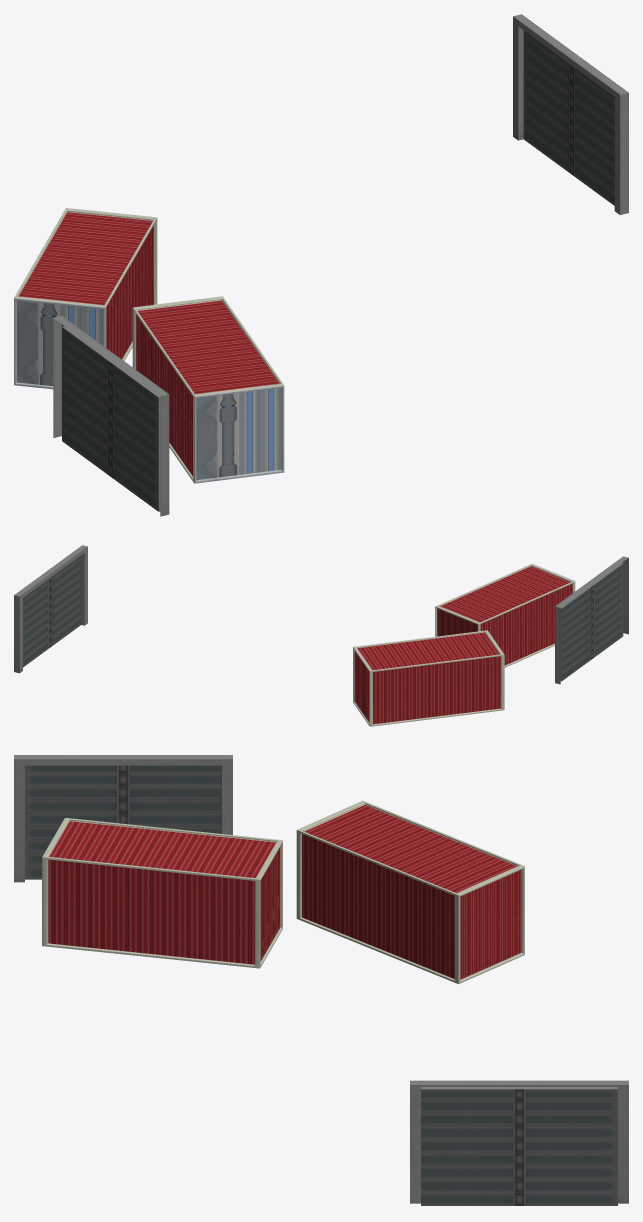
File: Warehouse Shipping.fbx
3 renders of one model, top to bottom at view 1: azimuth 30°, elevation 25°; view 2: azimuth 150°, elevation 25°; view 3: azimuth 270°, elevation 25°, orthographic. The views are drawn at different scales.
Parts seen in each view (by area): view 1: Shipping.002, Shipping.001, Garage Door.002, Garage Door; view 2: Shipping.001, Shipping.002, Garage Door.002, Garage Door; view 3: Shipping.002, Shipping.001, Garage Door, Garage Door.002.
Boxes of the visible parts, x1,y1,x2,y2 form: Shipping.002: (132,296,284,483); Shipping.001: (14,208,157,389); Garage Door.002: (53,316,169,516); Garage Door: (513,14,628,214); Shipping.001: (353,630,504,726); Shipping.002: (435,563,575,667); Garage Door.002: (555,556,628,684); Garage Door: (14,545,87,673); Shipping.002: (42,818,282,968); Shipping.001: (296,800,524,984); Garage Door: (410,1080,628,1205); Garage Door.002: (14,755,232,882).
Size of the model in its own units: 3746 by 650 by 2950.
